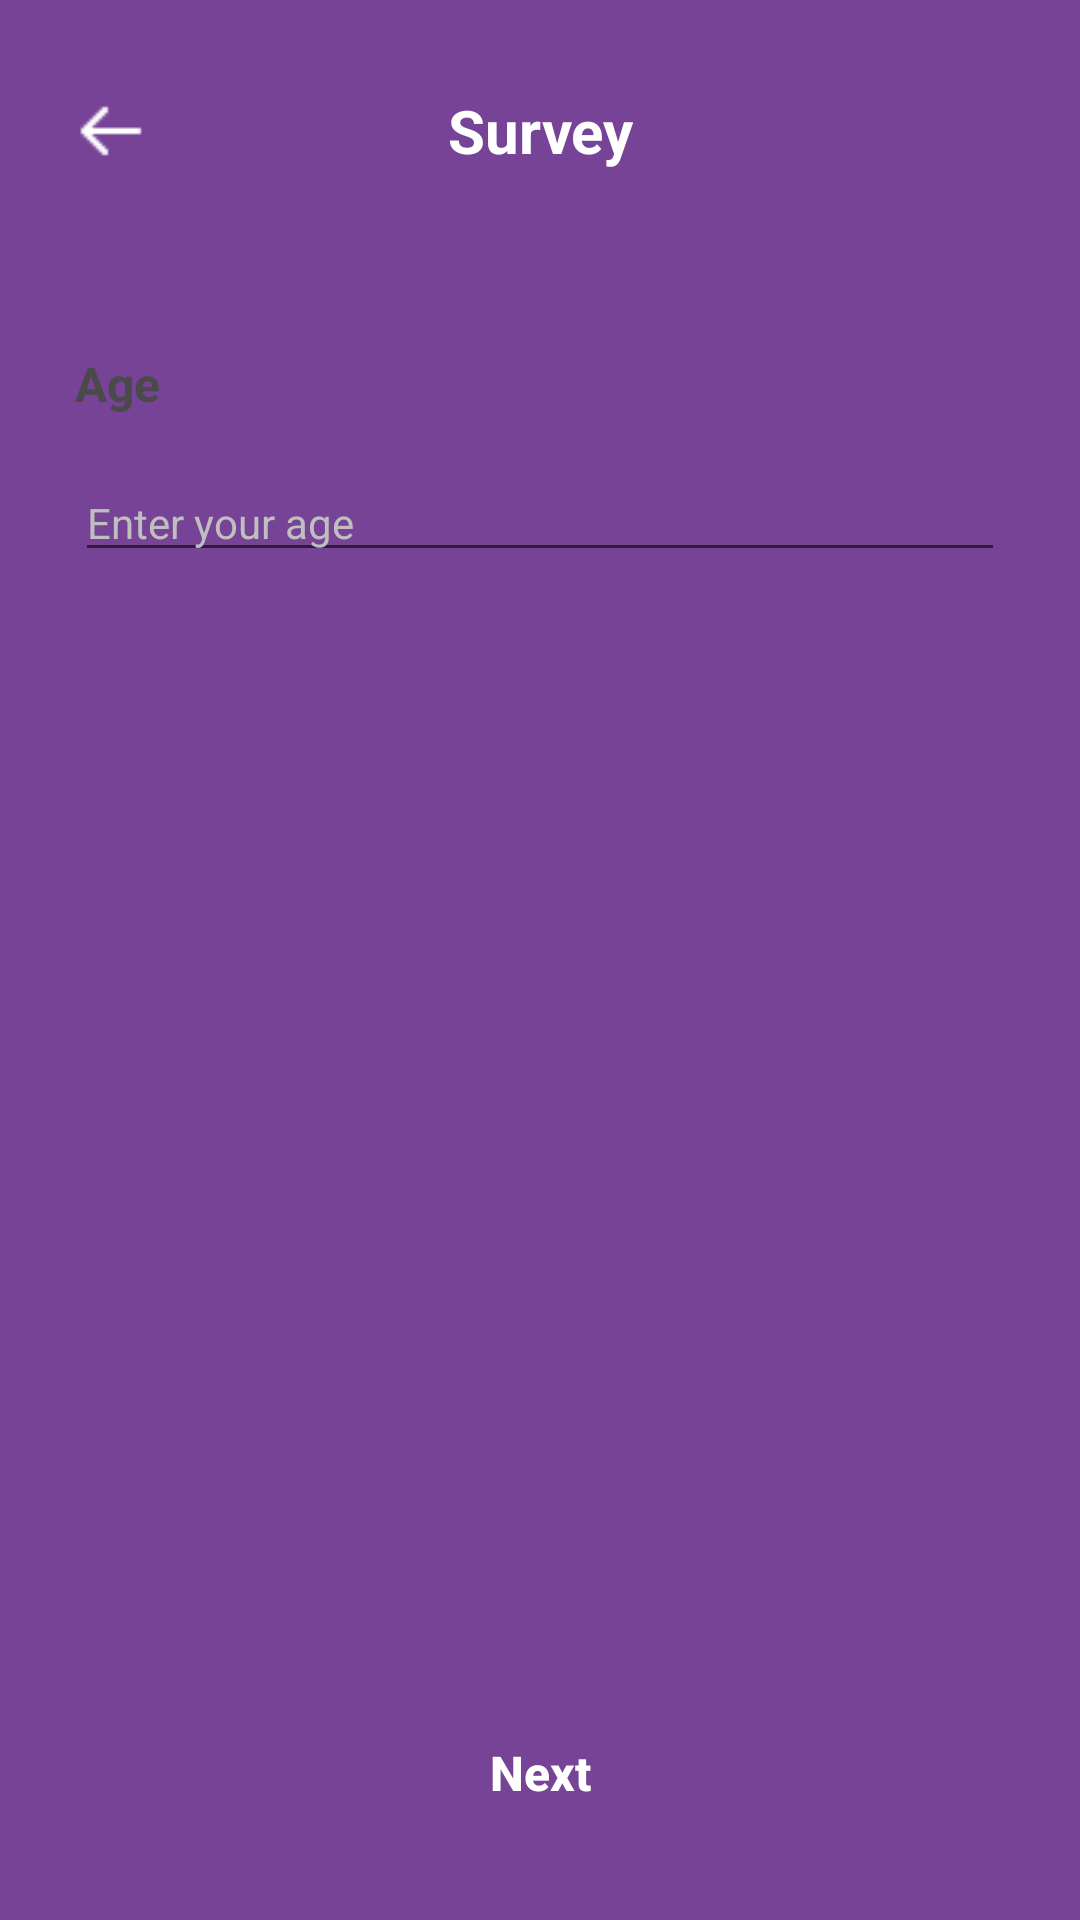

Screen size 1080 x 1920. Icon name, then its box in pixels as [x1,y1,x2,y2]:
back: [80,106,142,156]
